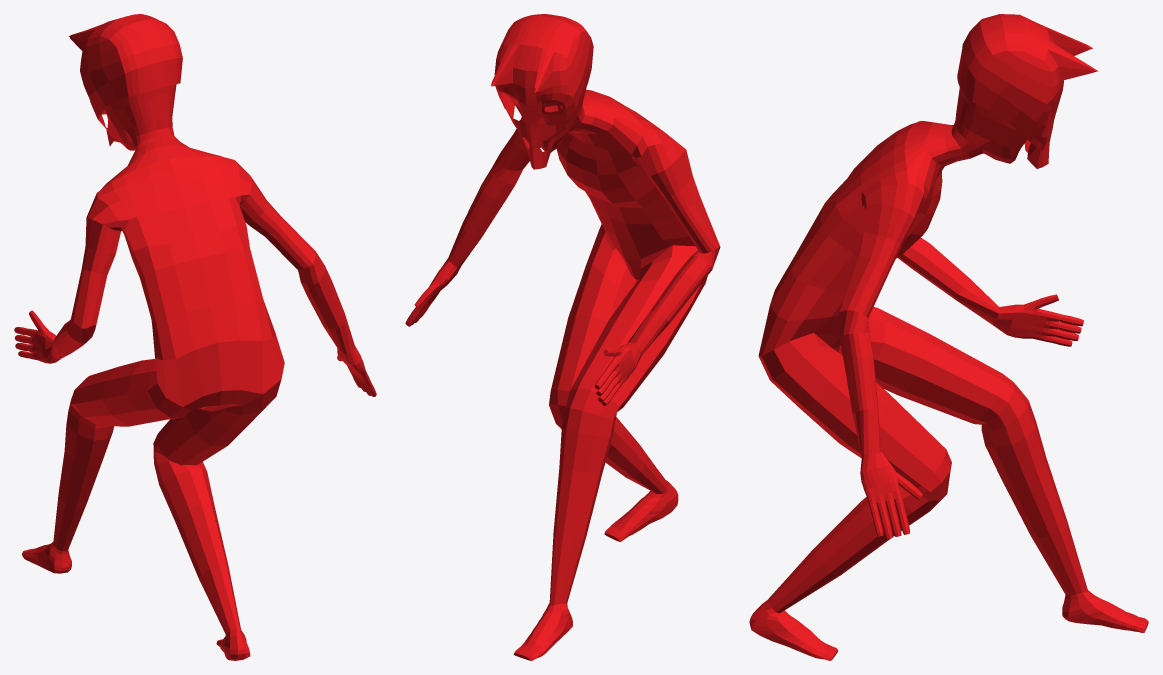
The model's file is saltoadelanteE_000136.obj.
3 renders of one model, left to right at view 1: azimuth 30°, elevation 25°; view 2: azimuth 150°, elevation 25°; view 3: azimuth 270°, elevation 25°, orthographic. The views are drawn at different scales.
Visible parts, largest first — view 1: Plane.002_Plane.001; view 2: Plane.002_Plane.001; view 3: Plane.002_Plane.001.
Boxes of the visible parts, <box> form: Plane.002_Plane.001: <box>14,14,376,660</box>; Plane.002_Plane.001: <box>405,14,720,660</box>; Plane.002_Plane.001: <box>749,14,1148,660</box>.
Size of the model in its own units: 3.07 by 5.56 by 3.2.
